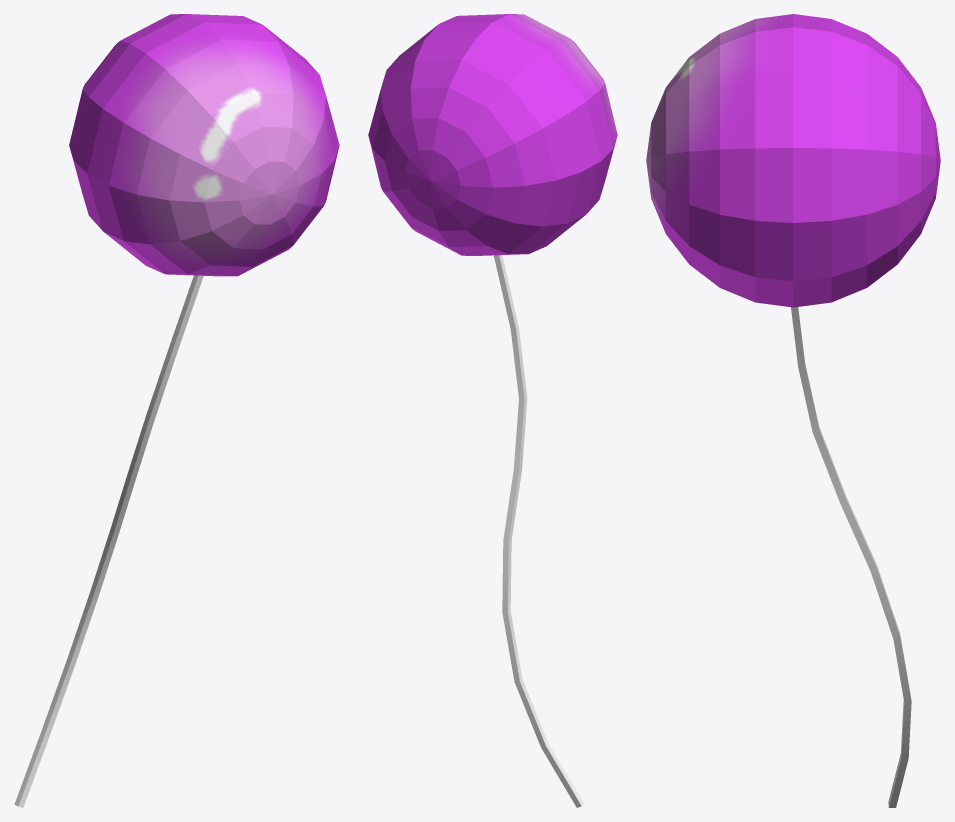
The model's file is Balloon003.fbx.
3 renders of one model, left to right at view 1: azimuth 30°, elevation 25°; view 2: azimuth 150°, elevation 25°; view 3: azimuth 270°, elevation 25°, orthographic. The views are drawn at different scales.
Parts seen in each view (by area): view 1: polySurface1; view 2: polySurface1; view 3: polySurface1.
Boxes of the visible parts, box(x1,y1,x2,y2) form: polySurface1: box(14, 14, 339, 807); polySurface1: box(368, 14, 617, 807); polySurface1: box(646, 14, 940, 807).
Size of the model in its own units: 0.3175 by 0.914 by 0.2858.
1 material, 1 textured.
